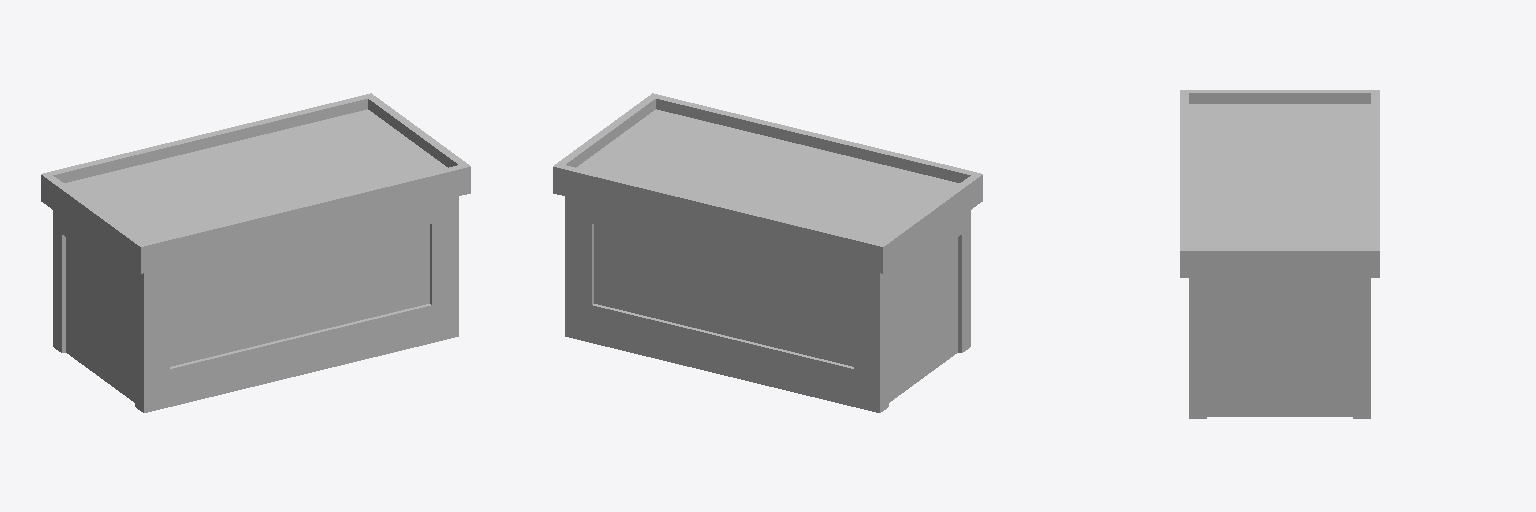
File: car-wash.obj
3 views of the same model, side by side, from view 1: azimuth 30°, elevation 25°; view 2: azimuth 150°, elevation 25°; view 3: azimuth 270°, elevation 25° (orthographic).
Visible parts, largest first — view 1: Cube.002_Cube.002; view 2: Cube.002_Cube.002; view 3: Cube.002_Cube.002.
Boxes of the visible parts, box(x1,y1,x2,y2) form: Cube.002_Cube.002: box(41, 93, 470, 412); Cube.002_Cube.002: box(553, 93, 982, 412); Cube.002_Cube.002: box(1180, 90, 1379, 418).
Bounding box in the file's own units: 4.2 × 2.08 × 2.2.